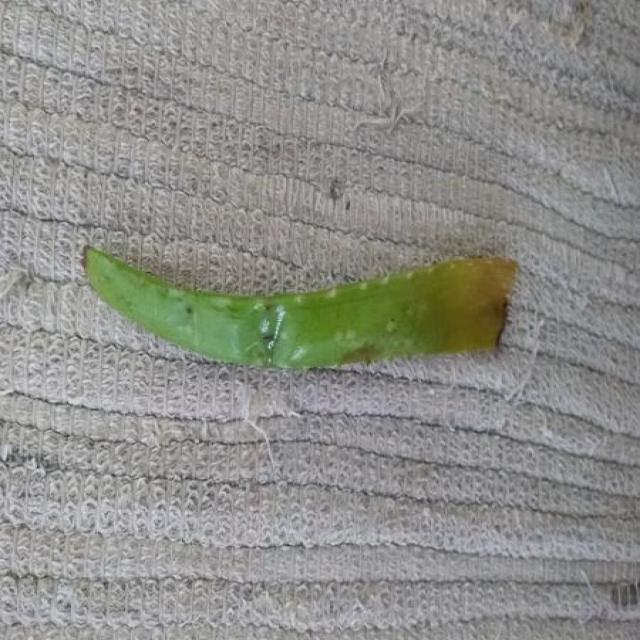alovera: (85, 248, 517, 369)
defectedalovera: (227, 272, 507, 368)
